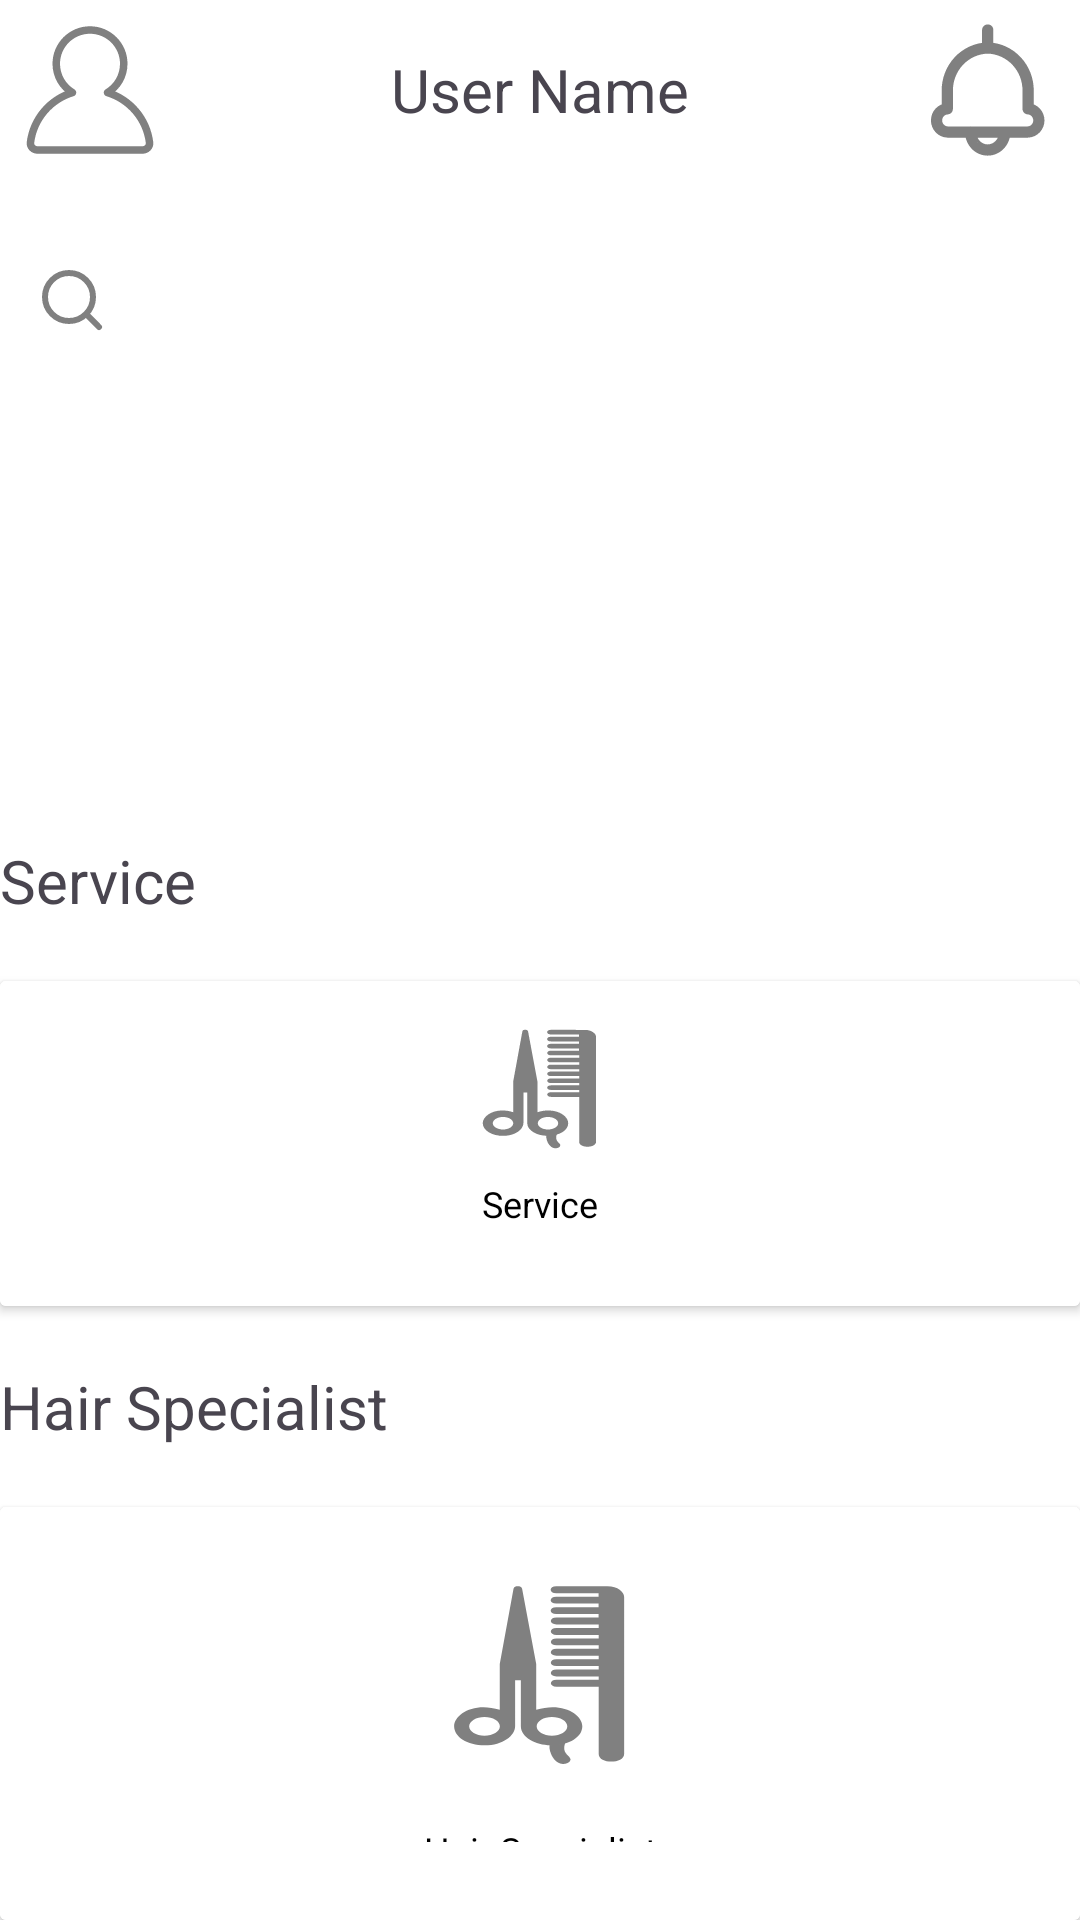

Where icons sit on this 1080x1920 app screen, as (x1, y1, x2, y2):
haircut: (482, 1029, 596, 1149), (454, 1586, 624, 1764)
notification: (931, 24, 1045, 156)
profile: (26, 26, 154, 154)
